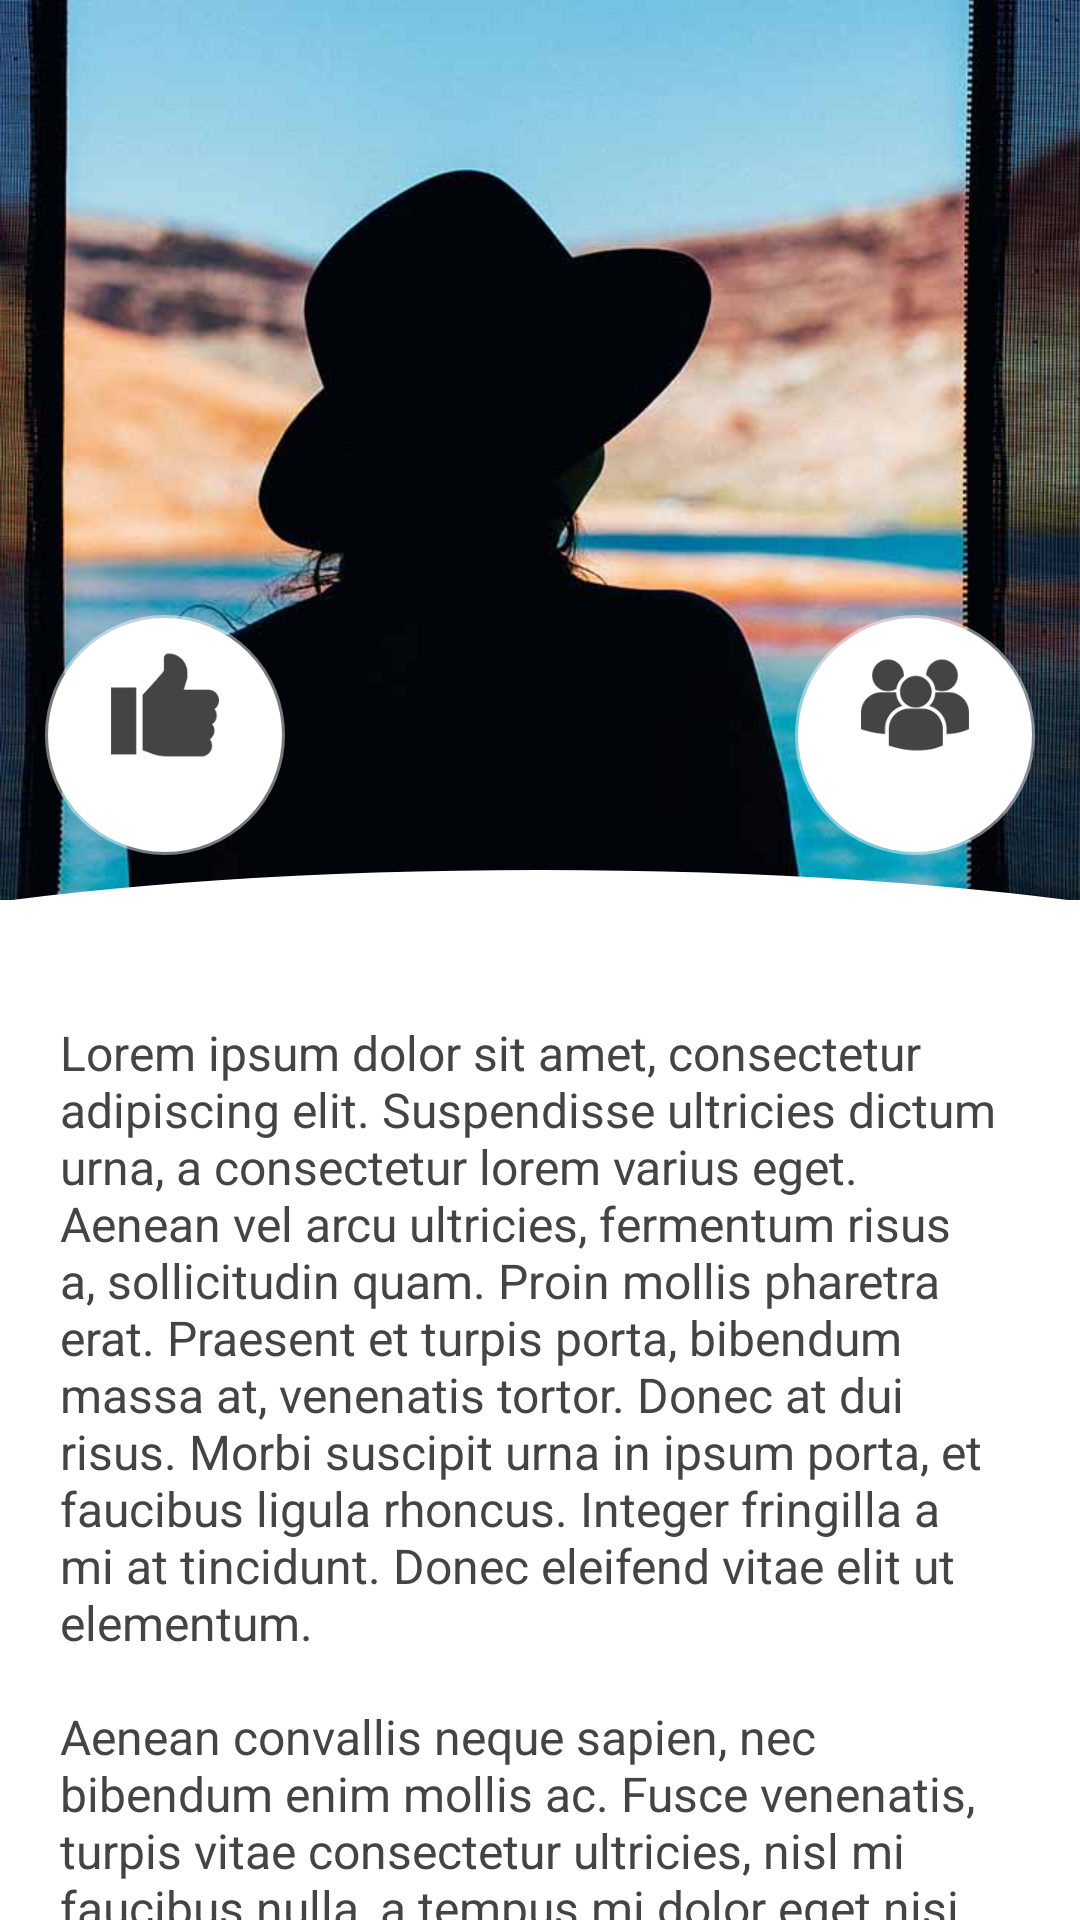

Point at icon controls on the screen. Image size 1080*1920, points as (x=x, y=y).
friends: (x=915, y=705)
like: (x=165, y=705)
